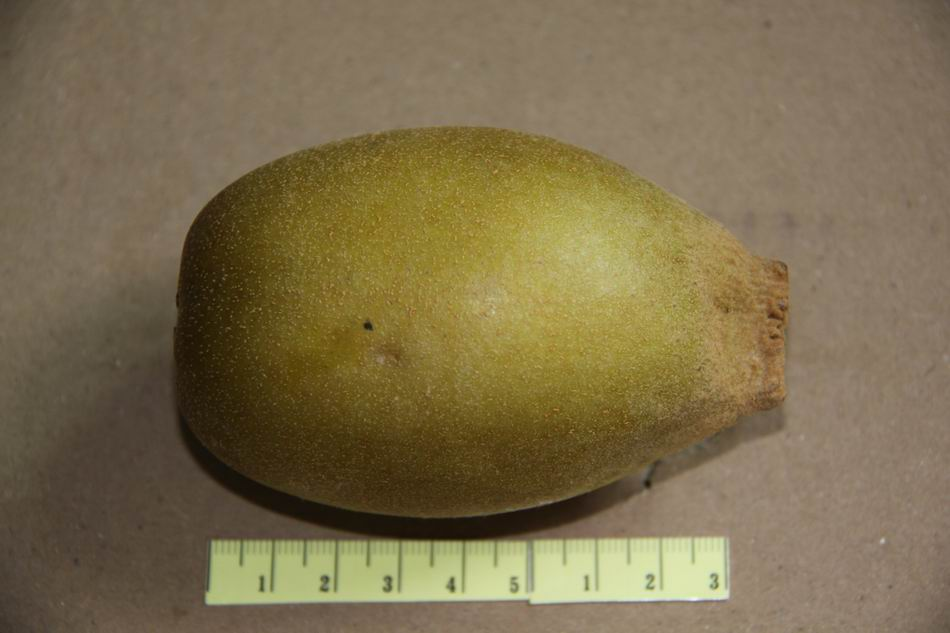kiwi: (174, 126, 791, 521)
